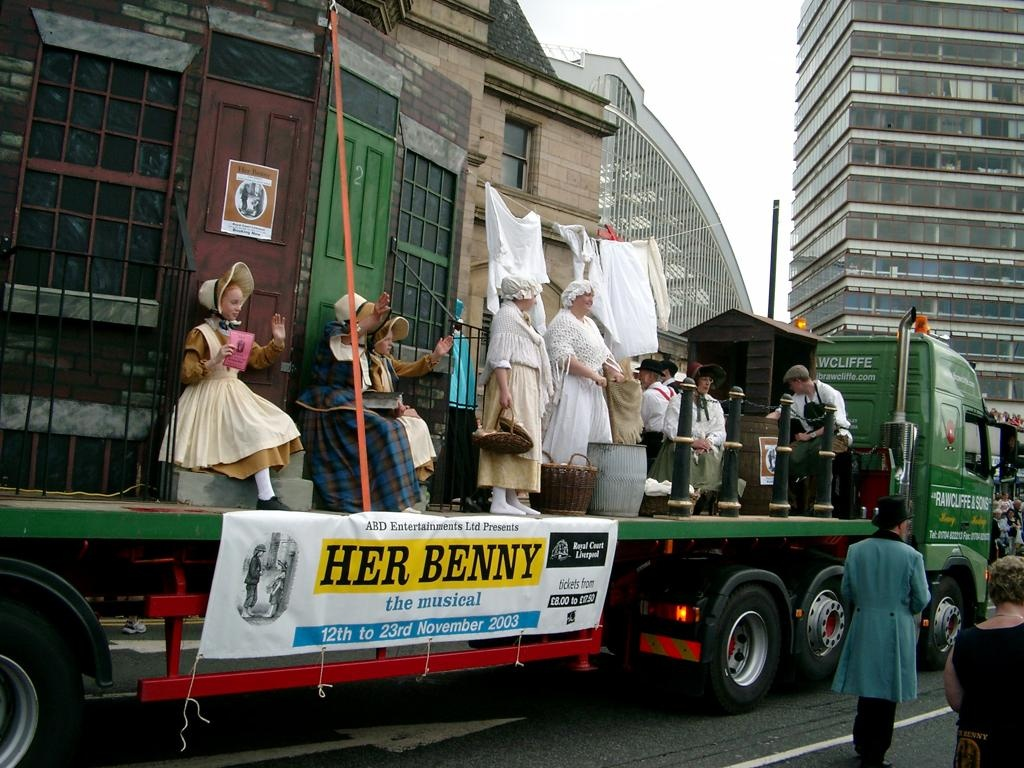human_face: (220, 286, 242, 320), (372, 329, 392, 353), (574, 287, 594, 311), (520, 286, 538, 308), (696, 374, 710, 392), (638, 366, 650, 386), (786, 377, 798, 393), (995, 511, 1001, 517), (1016, 500, 1020, 508), (1008, 511, 1012, 517), (1004, 493, 1008, 499)
